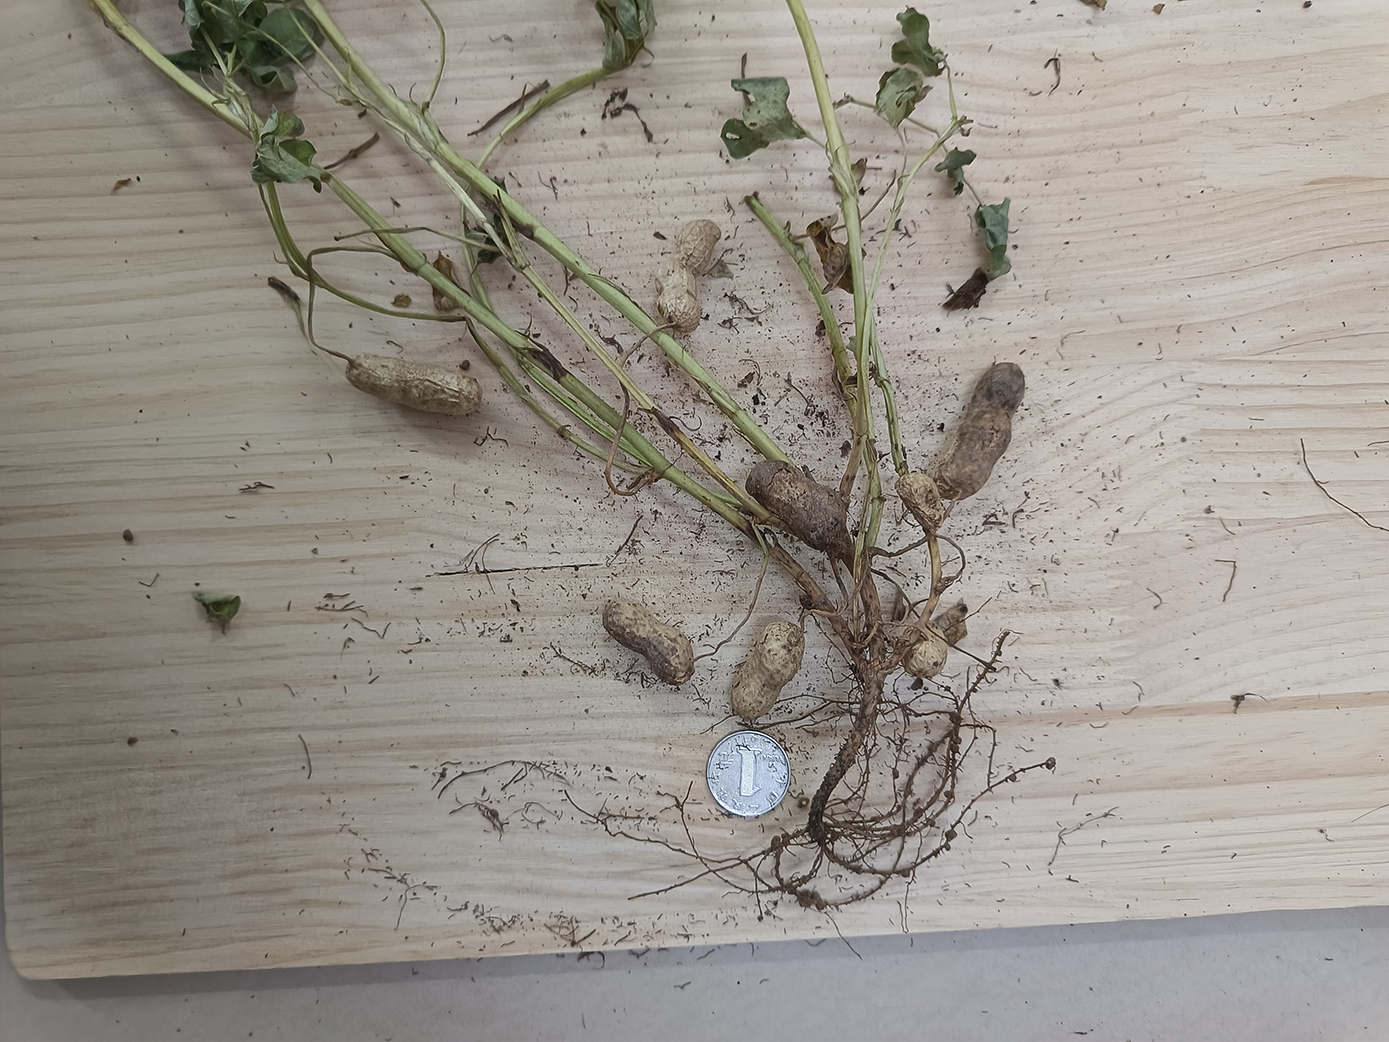h: (345, 355, 483, 419), (602, 600, 697, 686), (653, 218, 721, 336), (728, 618, 805, 722), (896, 474, 946, 529), (900, 628, 947, 673)
l: (939, 362, 1026, 498), (744, 458, 847, 543)
